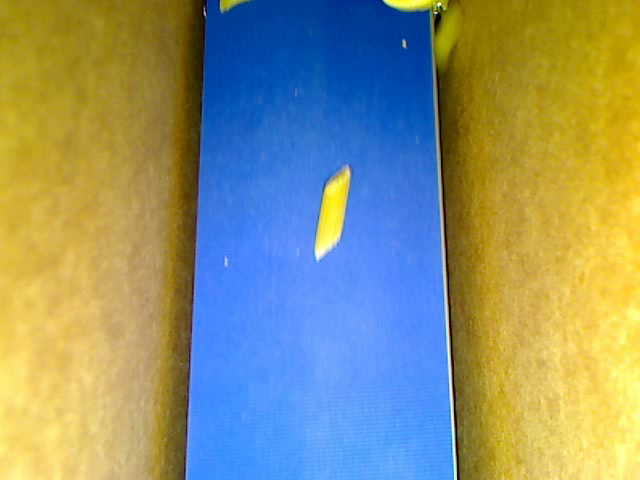penne: (312, 163, 351, 262)
